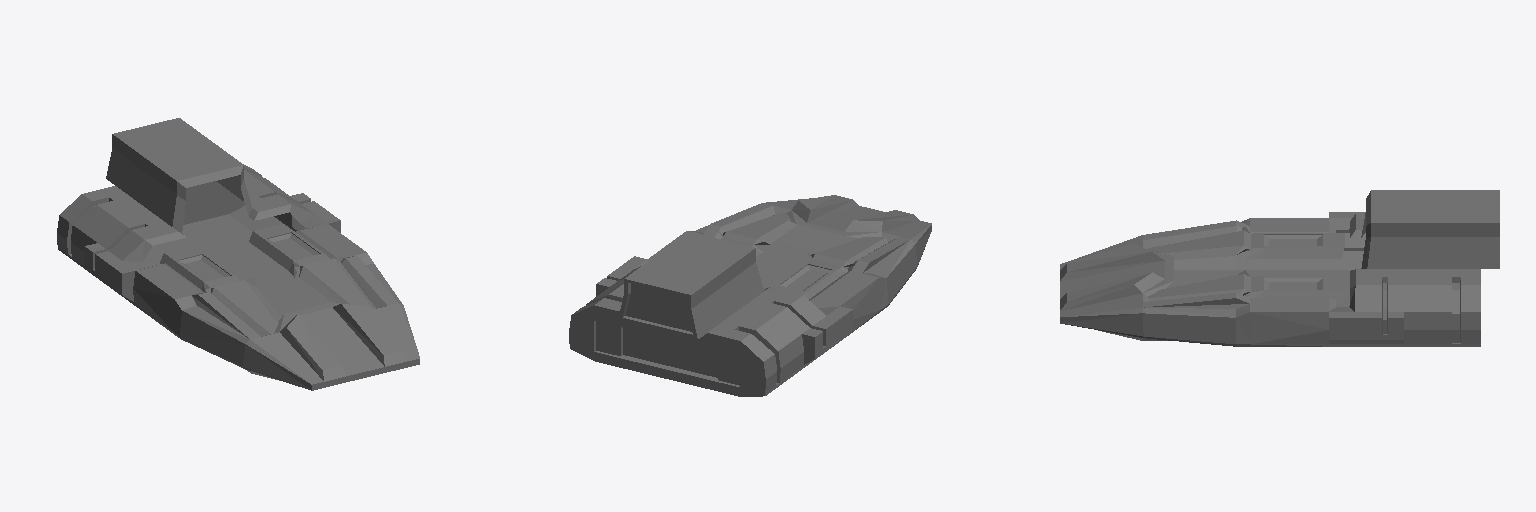
The model's file is Hull.obj.
The picture shows the model from 3 angles: view 1: azimuth 30°, elevation 25°; view 2: azimuth 150°, elevation 25°; view 3: azimuth 270°, elevation 25°; orthographic projection.
Parts seen in each view (by area): view 1: Hull_Mesh FighterChassis; view 2: Hull_Mesh FighterChassis; view 3: Hull_Mesh FighterChassis.
Part boxes in pixels (bbox=[...]): Hull_Mesh FighterChassis: bbox=[57, 118, 419, 390]; Hull_Mesh FighterChassis: bbox=[569, 195, 931, 396]; Hull_Mesh FighterChassis: bbox=[1060, 190, 1499, 346].
Bounding box in the file's own units: 333 × 145 × 582.